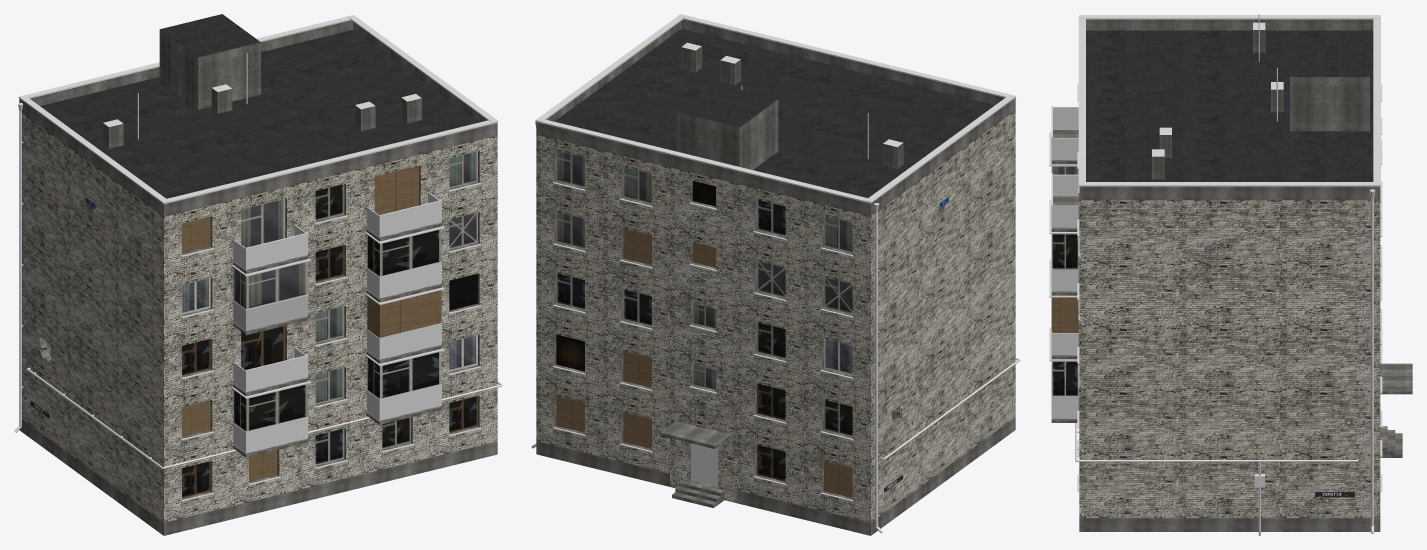
Rendered from S1U_KH_Brick.fbx.
3 renders of one model, left to right at view 1: azimuth 30°, elevation 25°; view 2: azimuth 150°, elevation 25°; view 3: azimuth 270°, elevation 25°, orthographic. The views are drawn at different scales.
Visible parts, largest first — view 1: S1U_KH_Brick; view 2: S1U_KH_Brick; view 3: S1U_KH_Brick.
Boxes of the visible parts, left/top/right/bottom form: S1U_KH_Brick: left=14, top=14, right=502, bottom=535; S1U_KH_Brick: left=531, top=14, right=1020, bottom=535; S1U_KH_Brick: left=1049, top=14, right=1412, bottom=535.
Size of the model in its own units: 16.79 by 17.1 by 14.5.
